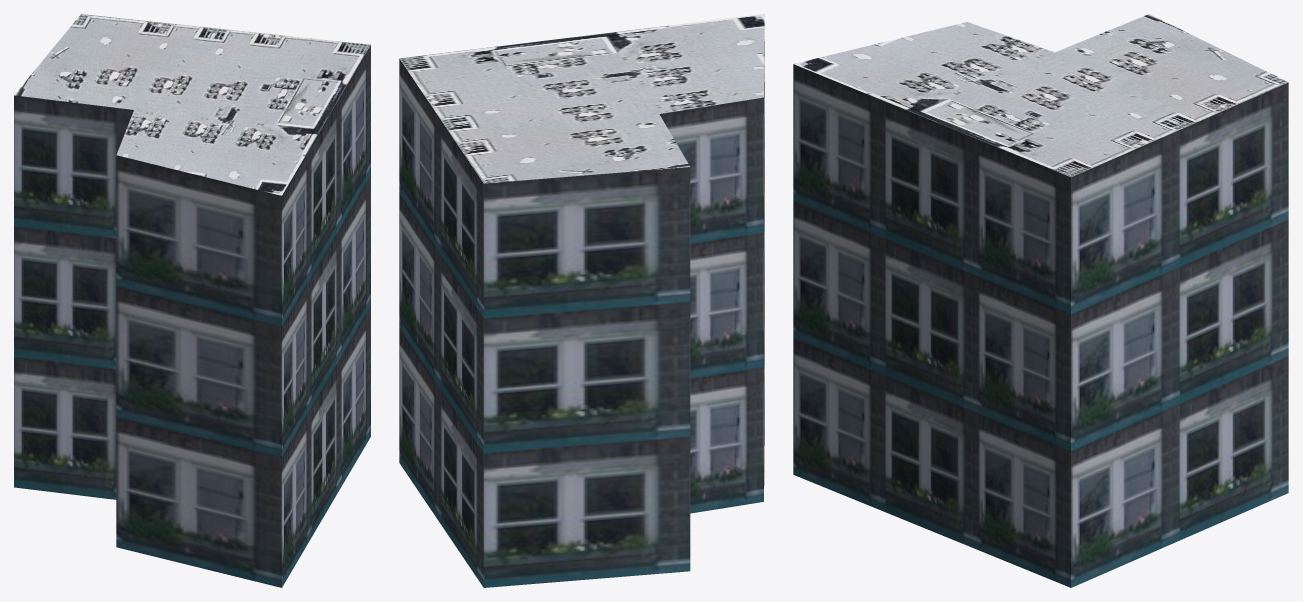
The model's file is ResTex__4147.fbx.
The picture shows the model from 3 angles, left to right: view 1: azimuth 30°, elevation 25°; view 2: azimuth 150°, elevation 25°; view 3: azimuth 270°, elevation 25°; orthographic projection. The views are drawn at different scales.
Parts seen in each view (by area): view 1: CityEngineMaterial_11_m, CityEngineMaterial_8_m; view 2: CityEngineMaterial_11_m, CityEngineMaterial_8_m; view 3: CityEngineMaterial_11_m, CityEngineMaterial_8_m.
Boxes of the visible parts, x1,y1,x2,y2 form: CityEngineMaterial_11_m: (14, 45, 370, 587); CityEngineMaterial_8_m: (14, 14, 370, 195); CityEngineMaterial_11_m: (399, 41, 764, 587); CityEngineMaterial_8_m: (399, 14, 764, 183); CityEngineMaterial_11_m: (793, 64, 1288, 587); CityEngineMaterial_8_m: (794, 14, 1288, 176).
Bounding box in the file's own units: 7.68 × 9 × 9.84.
2 materials, 2 textured.
